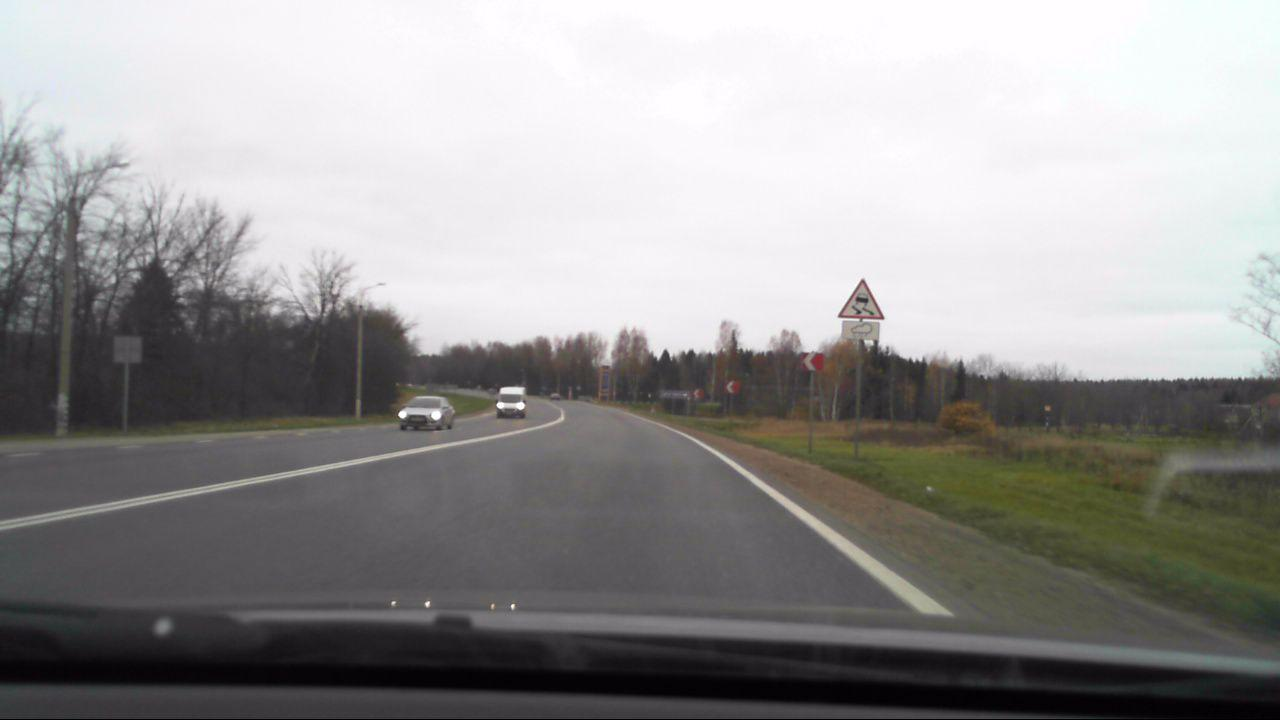1_15: (837, 276, 886, 319)
1_34_2: (802, 351, 822, 371), (722, 379, 739, 393), (691, 387, 706, 399)
8_16: (842, 319, 881, 339)
